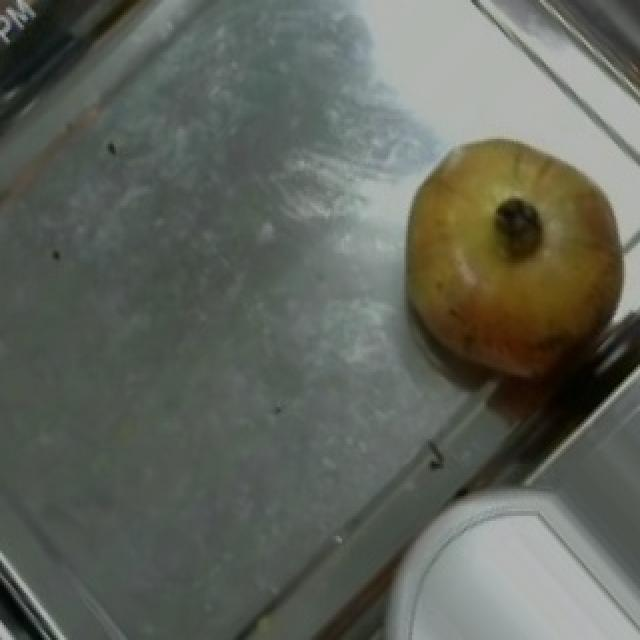fruit: (370, 106, 640, 406)
